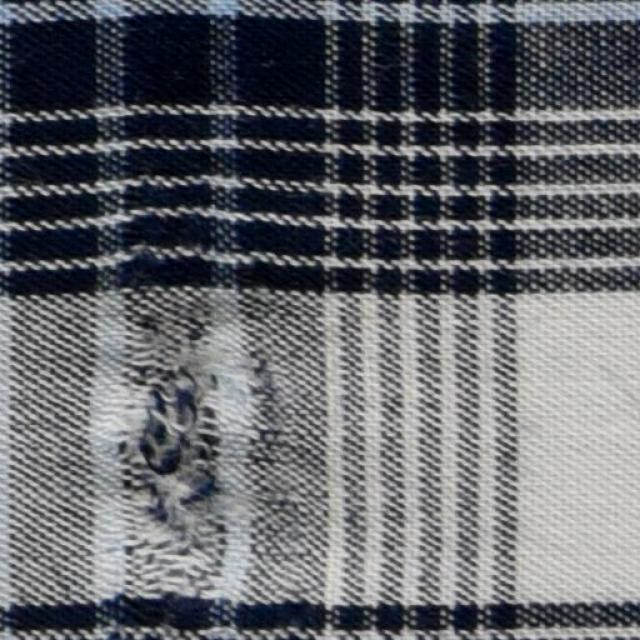Snag: (130, 324, 231, 592)
